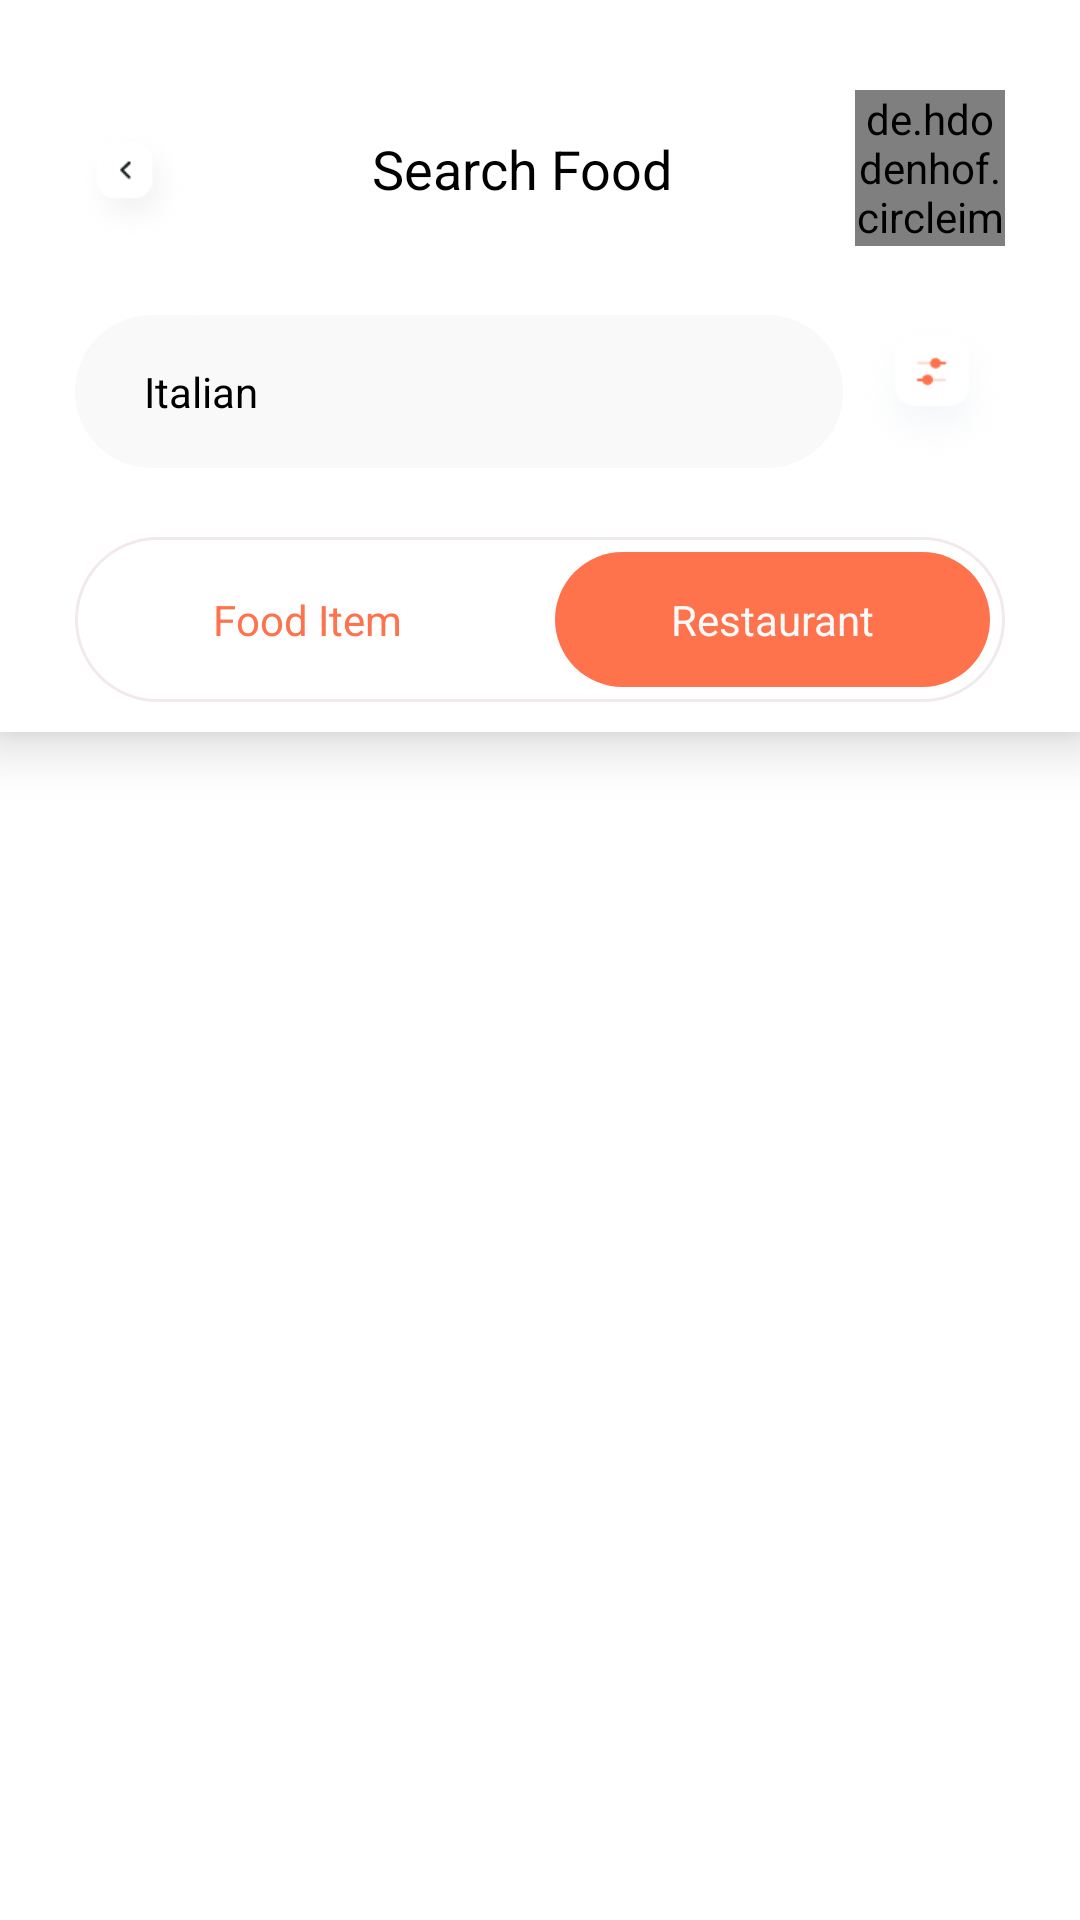

Icon click points for this 1080*1920 phone screenshot, format point (x, y):
filter: point (931, 371)
